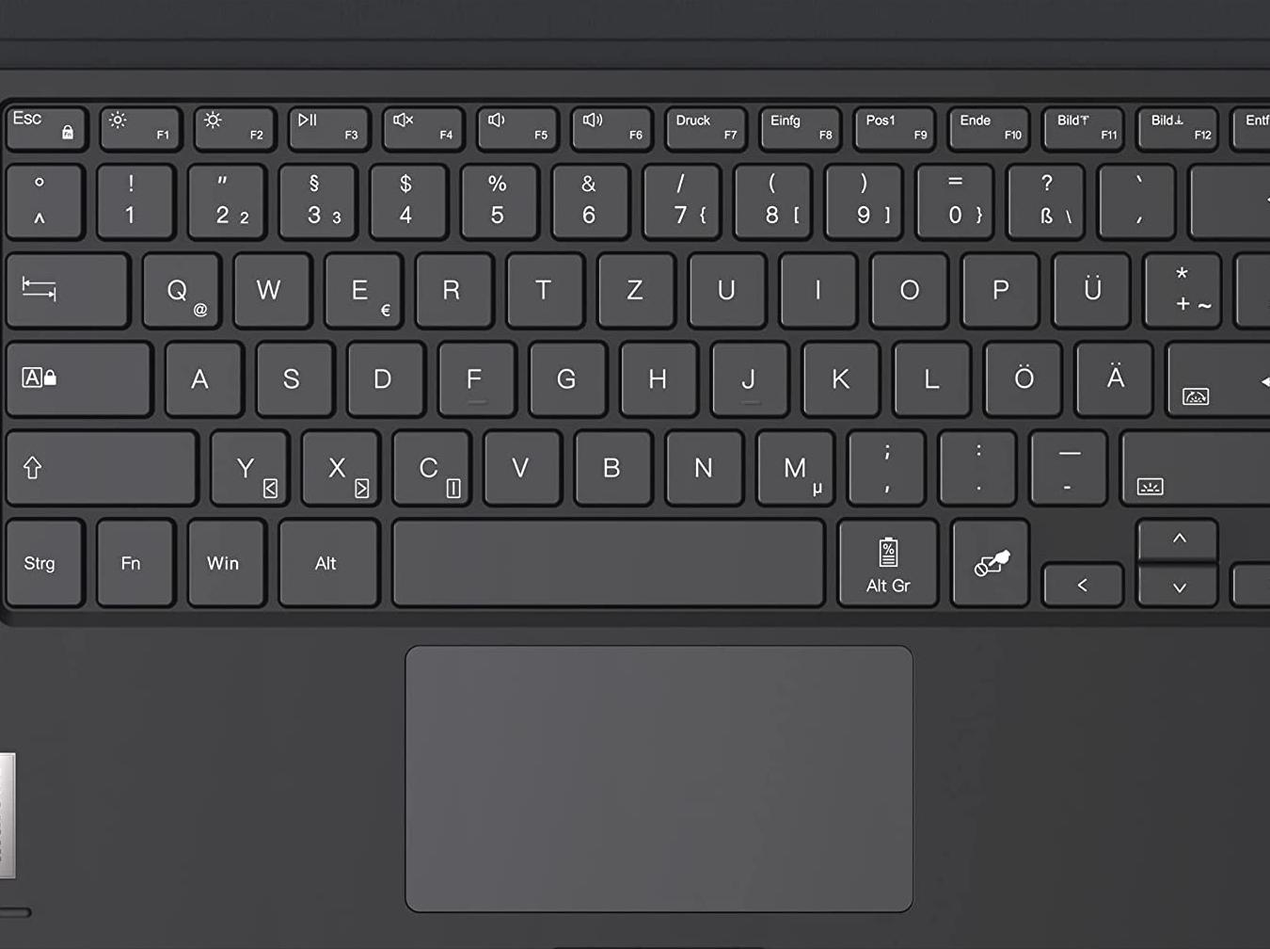0: (912, 157, 994, 239)
1: (92, 157, 172, 237)
2: (183, 158, 265, 238)
3: (274, 158, 357, 239)
4: (366, 158, 447, 238)
5: (455, 157, 539, 238)
6: (547, 158, 630, 238)
7: (638, 158, 721, 239)
8: (729, 158, 811, 239)
9: (819, 158, 902, 239)
a: (160, 335, 242, 415)
accent: (1093, 157, 1174, 236)
ae: (1071, 335, 1153, 415)
alt-left: (272, 513, 380, 606)
altgr-right: (831, 512, 940, 607)
b: (569, 424, 654, 504)
c: (388, 425, 471, 506)
caret: (1, 158, 82, 237)
comma: (843, 423, 925, 503)
d: (341, 335, 425, 416)
del: (1184, 157, 1270, 237)
e: (319, 247, 402, 327)
enter: (1162, 333, 1270, 415)
f: (434, 335, 515, 415)
g: (524, 336, 607, 415)
h: (615, 335, 697, 416)
hash: (1233, 247, 1270, 327)
i: (775, 247, 857, 326)
j: (706, 335, 787, 415)
k: (798, 335, 880, 415)
keyboard: (1, 60, 1270, 629)
l: (889, 335, 970, 415)
m: (750, 423, 834, 505)
minus: (1023, 424, 1106, 503)
n: (660, 424, 743, 504)
o: (865, 247, 948, 327)
oe: (979, 336, 1061, 415)
p: (957, 247, 1040, 327)
plus: (1139, 246, 1222, 326)
point: (934, 424, 1016, 503)
q: (136, 247, 220, 328)
r: (411, 247, 493, 327)
s: (251, 336, 333, 415)
shift-left: (1, 422, 200, 505)
shift-lock: (1, 335, 150, 415)
shift-right: (1116, 422, 1270, 506)
space: (389, 511, 825, 607)
ss: (1002, 157, 1084, 238)
strg-left: (1, 512, 83, 606)
t: (502, 247, 582, 326)
tab: (1, 245, 127, 326)
u: (684, 247, 766, 327)
ue: (1047, 246, 1130, 327)
v: (478, 424, 562, 504)
w: (228, 246, 310, 326)
x: (297, 425, 380, 504)
y: (207, 425, 290, 504)
z: (592, 247, 675, 326)
